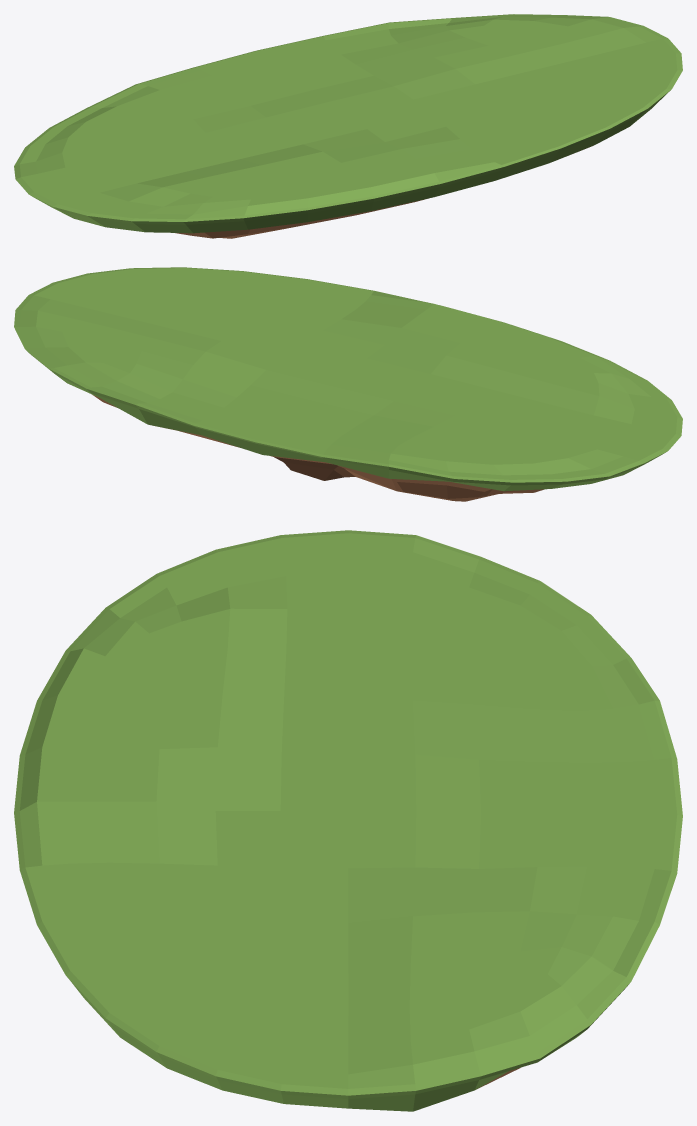
The model's file is Ground.fbx.
3 views of the same model, one above another, from view 1: azimuth 30°, elevation 25°; view 2: azimuth 150°, elevation 25°; view 3: azimuth 270°, elevation 25° (orthographic). The views are drawn at different scales.
Parts seen in each view (by area): view 1: Ground; view 2: Ground; view 3: Ground.
Part boxes in pixels (box(x1,y1,x2,y2)): Ground: box(14, 14, 682, 238); Ground: box(14, 267, 682, 501); Ground: box(14, 530, 682, 1111).
Bounding box in the file's own units: 3358 × 494 × 1679.
